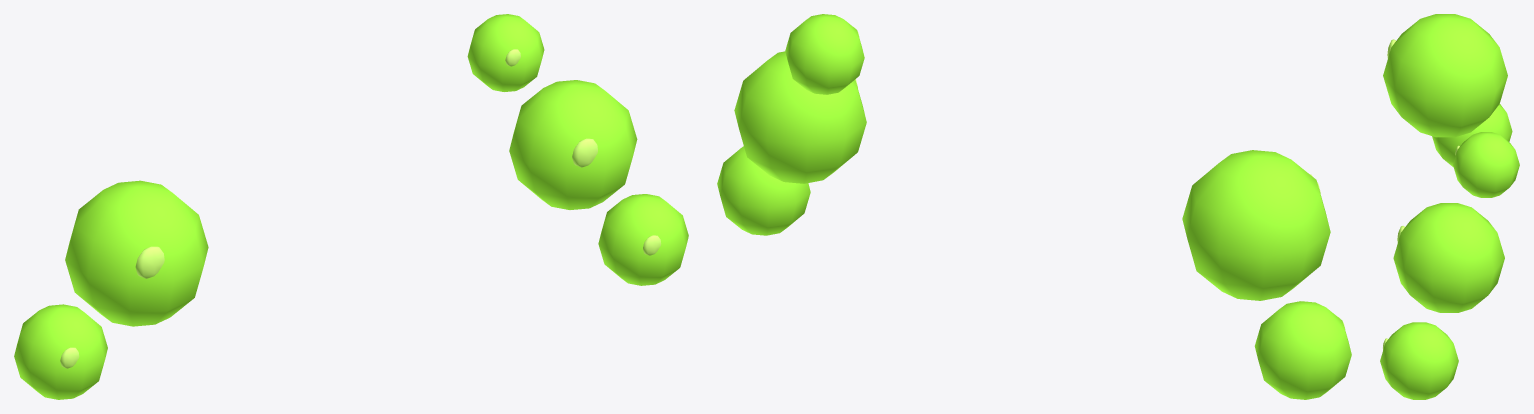
File: trait-toxic.glb
The picture shows the model from 3 angles, left to right: view 1: azimuth 30°, elevation 25°; view 2: azimuth 150°, elevation 25°; view 3: azimuth 270°, elevation 25°; orthographic projection. The views are drawn at different scales.
Visible parts, largest first — view 1: trait-toxic; view 2: trait-toxic; view 3: trait-toxic.
Boxes of the visible parts, bbox=[...] form: trait-toxic: bbox=[14, 14, 688, 399]; trait-toxic: bbox=[717, 14, 1351, 399]; trait-toxic: bbox=[1380, 14, 1519, 399].
Size of the model in its own units: 0.8327 by 0.33 by 0.188.
